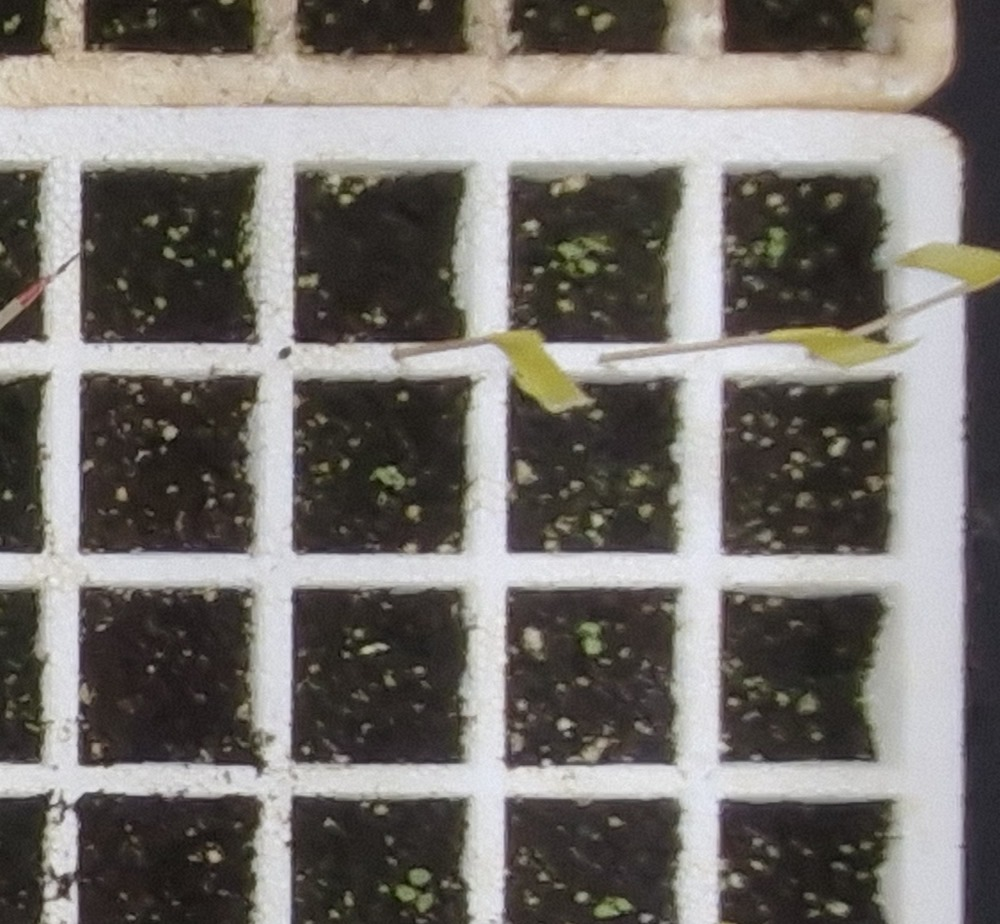Folha: (409, 870, 433, 885), (581, 237, 605, 251), (559, 244, 581, 258), (594, 904, 616, 918), (579, 258, 597, 275), (584, 638, 602, 655), (397, 885, 415, 901), (417, 895, 431, 911), (615, 898, 631, 911), (581, 622, 601, 632)
Germinacao: (559, 236, 614, 274), (394, 866, 434, 913), (592, 895, 633, 918), (580, 622, 603, 656)
